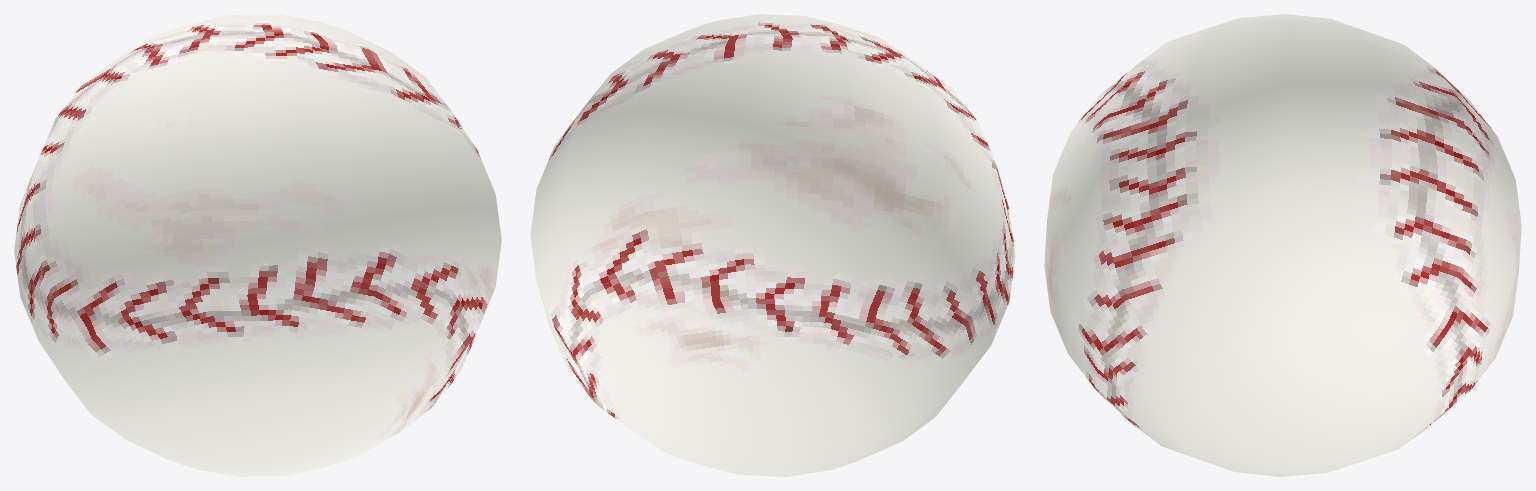
Rendered from ps2_save-icons_backyardbaseball.glb.
3 renders of one model, left to right at view 1: azimuth 30°, elevation 25°; view 2: azimuth 150°, elevation 25°; view 3: azimuth 270°, elevation 25°, orthographic.
Parts seen in each view (by area): view 1: BYBB.ico; view 2: BYBB.ico; view 3: BYBB.ico.
Boxes of the visible parts, x1,y1,x2,y2 form: BYBB.ico: [14, 14, 501, 476]; BYBB.ico: [530, 14, 1015, 476]; BYBB.ico: [1044, 14, 1521, 476].
Bounding box in the file's own units: 3.42 × 3.21 × 3.35.
1 material, 1 textured.
